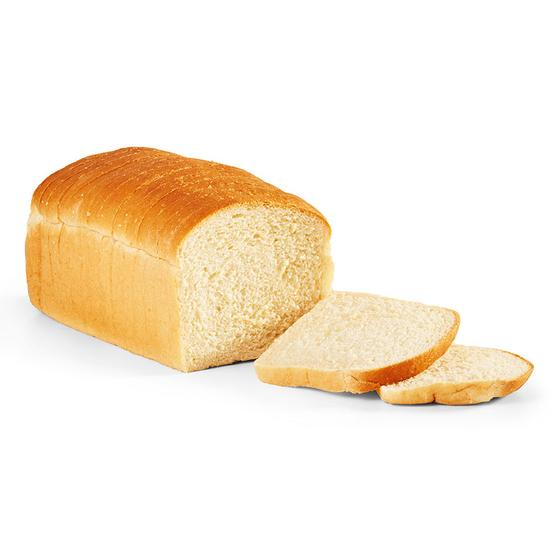white_bread: (27, 142, 324, 370)
